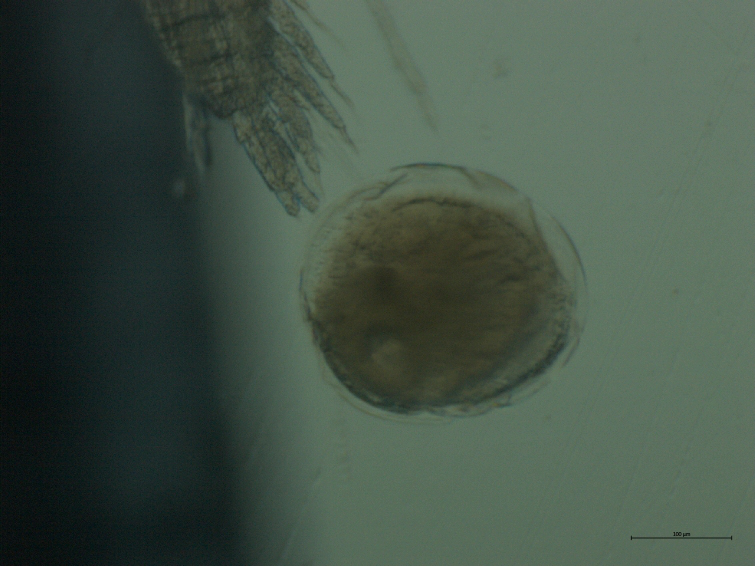oyster: (270, 145, 627, 443)
